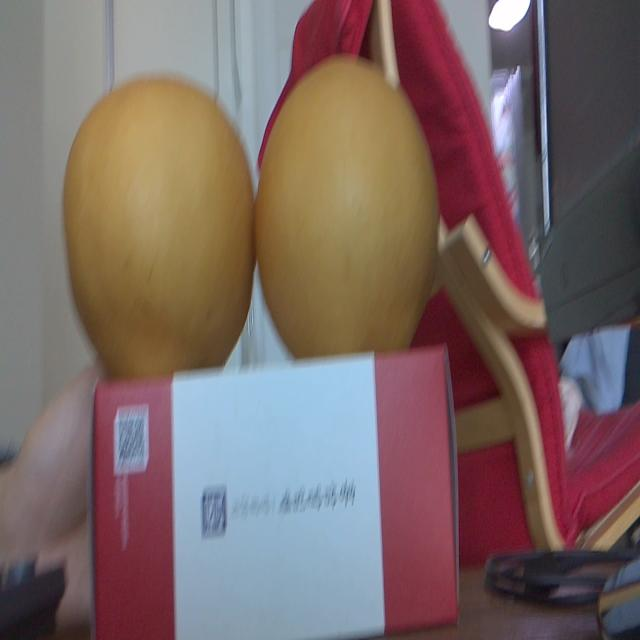pear: (64, 70, 258, 373), (259, 52, 437, 359)
